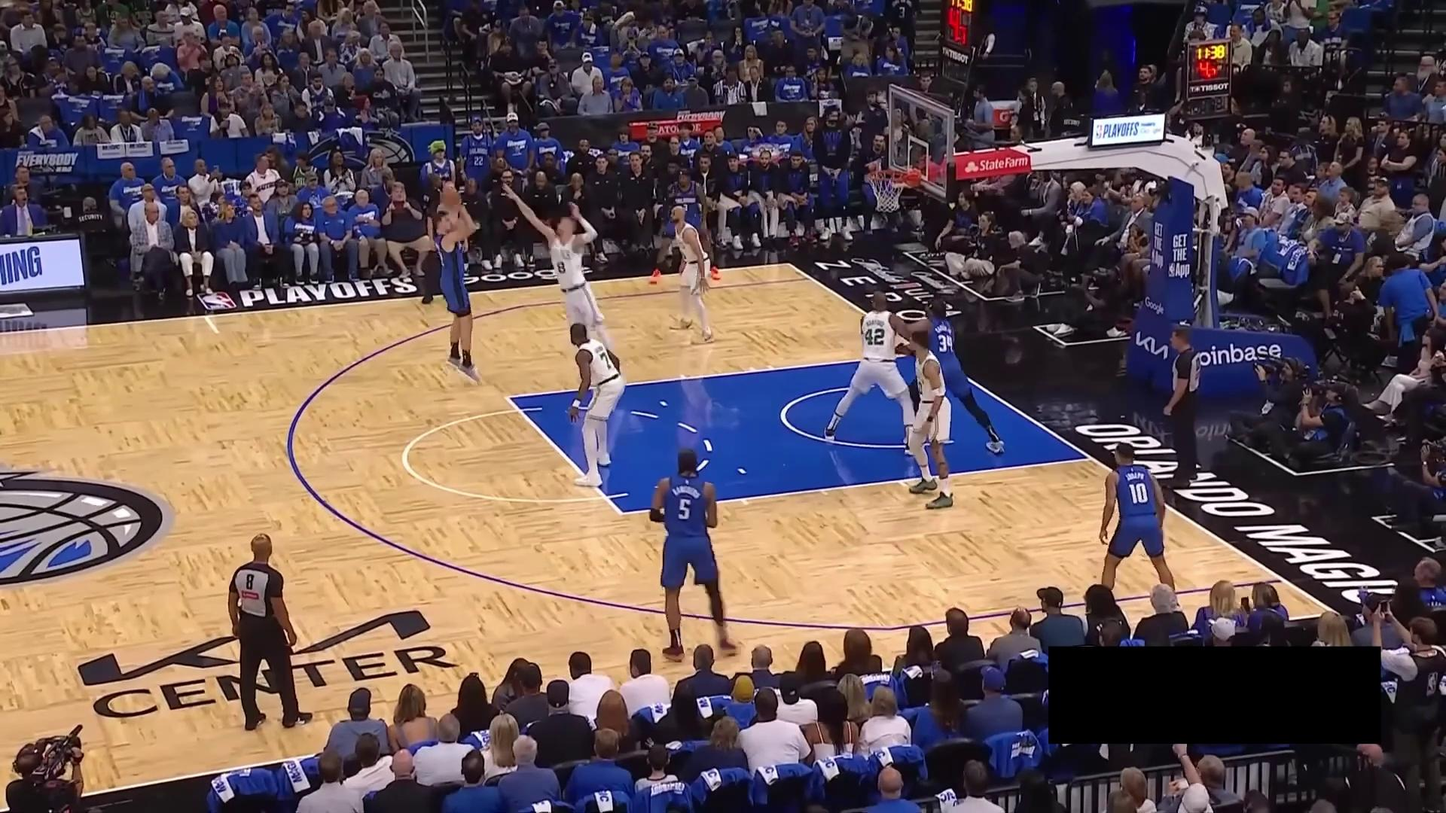ball: (440, 185, 462, 210)
number: (1128, 482, 1149, 504), (865, 327, 885, 346), (678, 498, 691, 521), (938, 333, 951, 353), (599, 350, 612, 370), (557, 260, 566, 275)
player: (648, 446, 740, 662), (896, 297, 1008, 458), (822, 288, 920, 456), (1097, 442, 1182, 613), (566, 321, 626, 489), (649, 167, 721, 287), (909, 331, 954, 510), (664, 204, 715, 346)
player-jump-shot: (426, 179, 484, 387)
player-shot-block: (498, 178, 613, 362)
referee: (227, 533, 313, 731), (1161, 324, 1203, 489), (419, 181, 469, 306)
rim: (865, 169, 908, 183)
